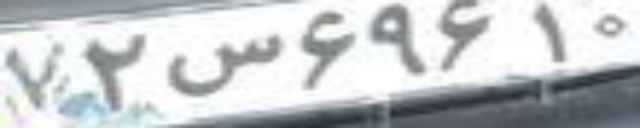0: (590, 15, 629, 37)
1: (531, 3, 569, 62)
2: (83, 31, 151, 110)
6: (297, 11, 354, 89), (435, 0, 491, 70)
7: (5, 39, 70, 109)
9: (370, 3, 425, 73)
sin: (162, 34, 281, 92)
